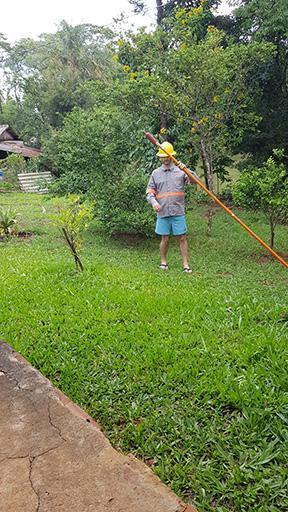helmet: (156, 141, 177, 166)
